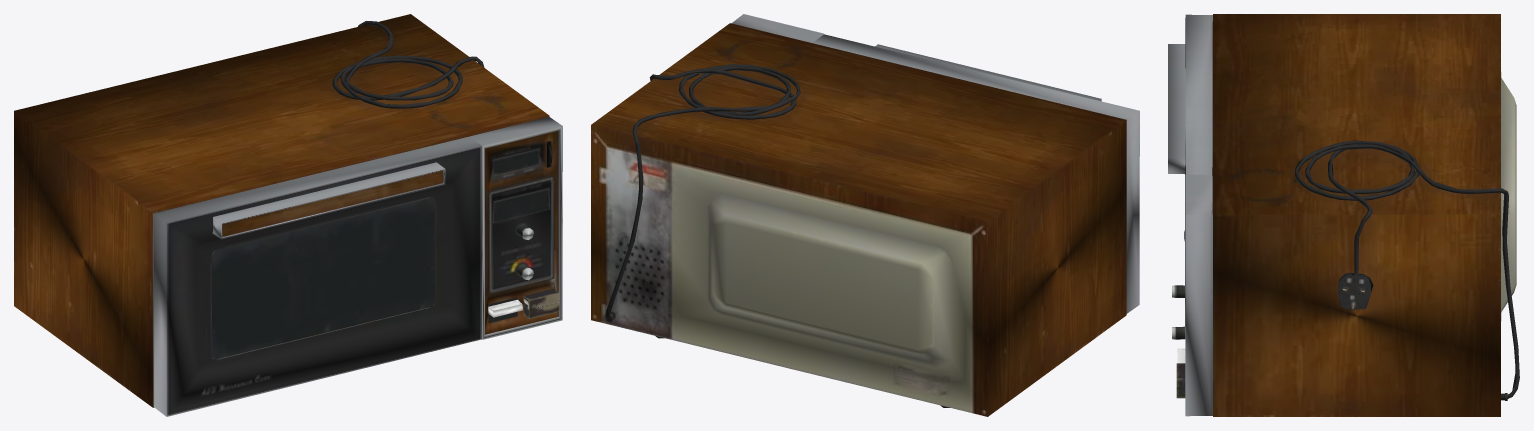
File: vintage_microwave.glb
3 renders of one model, left to right at view 1: azimuth 30°, elevation 25°; view 2: azimuth 150°, elevation 25°; view 3: azimuth 270°, elevation 25°, orthographic. The views are drawn at different scales.
Parts seen in each view (by area): view 1: vintage_microwave; view 2: vintage_microwave; view 3: vintage_microwave.
Boxes of the visible parts, bbox=[...] form: vintage_microwave: bbox=[14, 14, 562, 416]; vintage_microwave: bbox=[591, 14, 1139, 416]; vintage_microwave: bbox=[1168, 14, 1519, 416].
Size of the model in its own units: 1.07 by 0.5258 by 0.7447.
2 materials, 2 textured.
